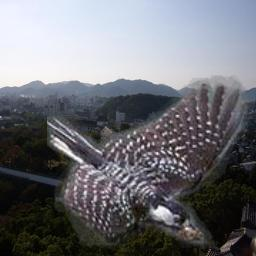Woodpecker: (47, 75, 255, 250)
